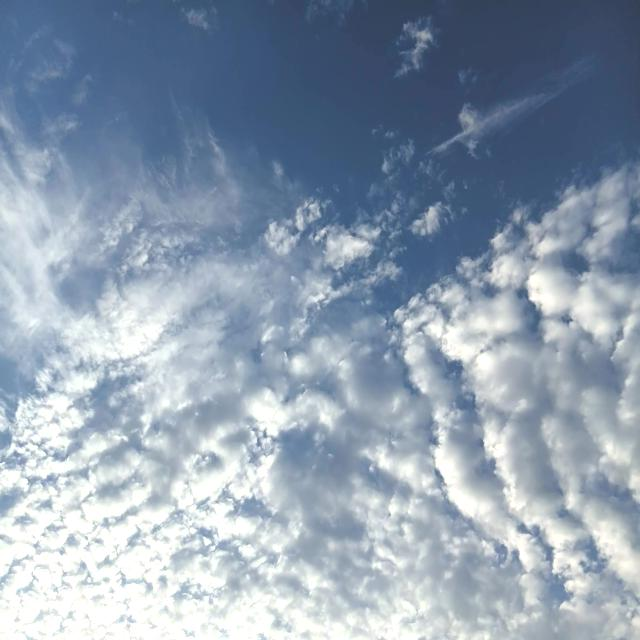altocumulus: (3, 205, 632, 639)
